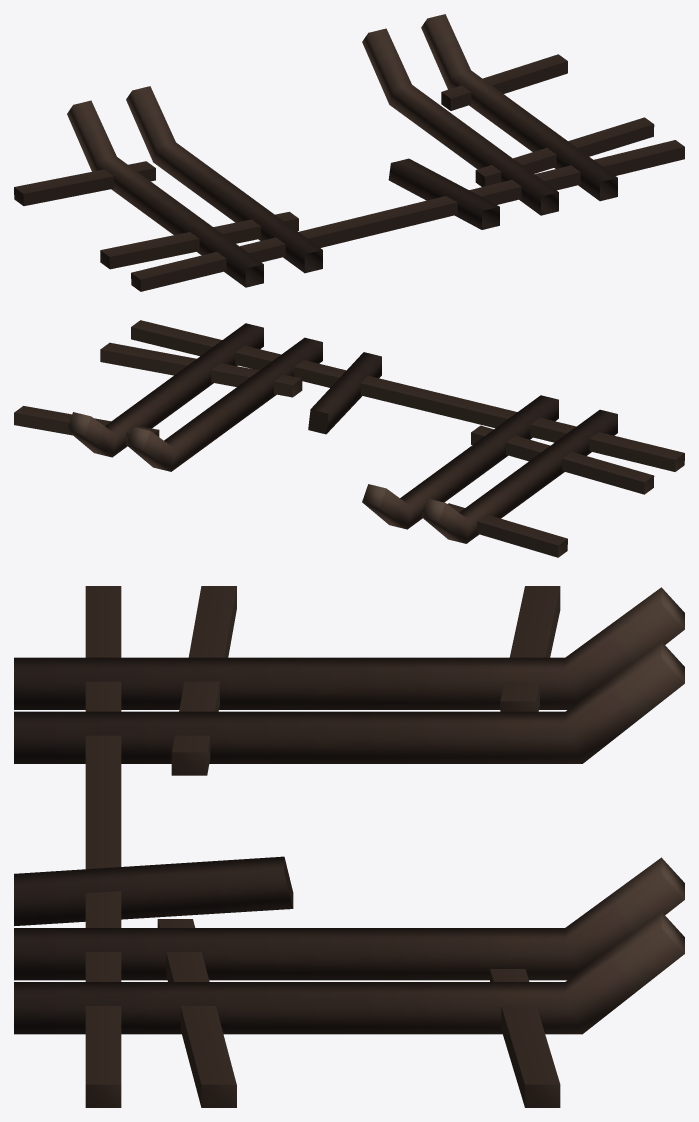
Rendered from Fence 03.FBX.
3 views of the same model, one above another, from view 1: azimuth 30°, elevation 25°; view 2: azimuth 150°, elevation 25°; view 3: azimuth 270°, elevation 25° (orthographic). The views are drawn at different scales.
Visible parts, largest first — view 1: Fence 03; view 2: Fence 03; view 3: Fence 03.
Part boxes in pixels (x1,y1,x2,y2): Fence 03: [14, 14, 684, 291]; Fence 03: [14, 320, 684, 557]; Fence 03: [14, 586, 684, 1107].
Size of the model in its own units: 461 by 45.8 by 262.
Materials: 1 (1 with a texture image).
